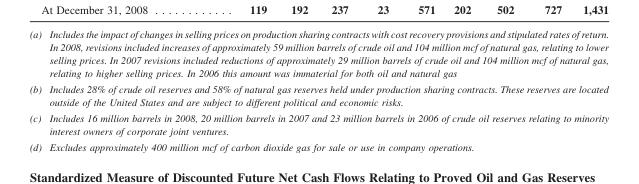table: (28, 28, 608, 152)
table column: (44, 28, 608, 152), (28, 28, 44, 152)
table row: (28, 28, 608, 80), (28, 80, 608, 109), (28, 109, 608, 138), (28, 138, 608, 152)
